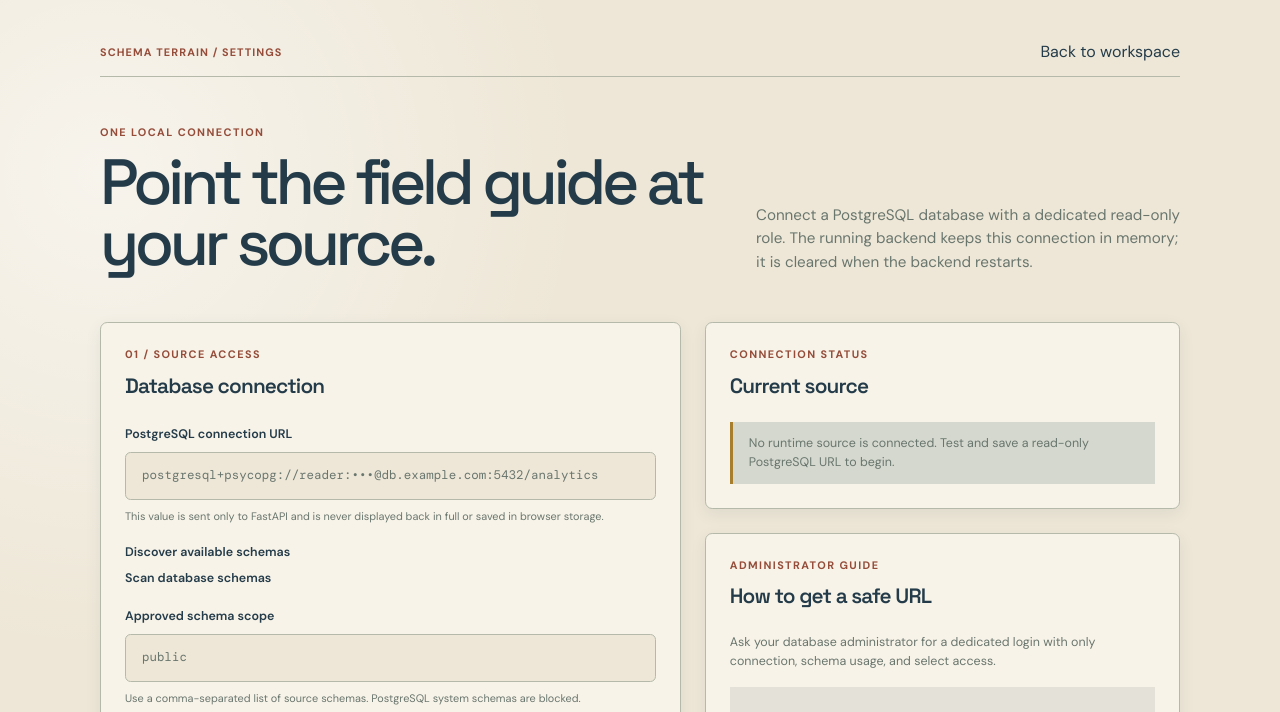
Test case: Milestone 10 application › returns to the workspace from settings
Click the button "Back to workspace": (1110, 52) [1040,40,1180,64]
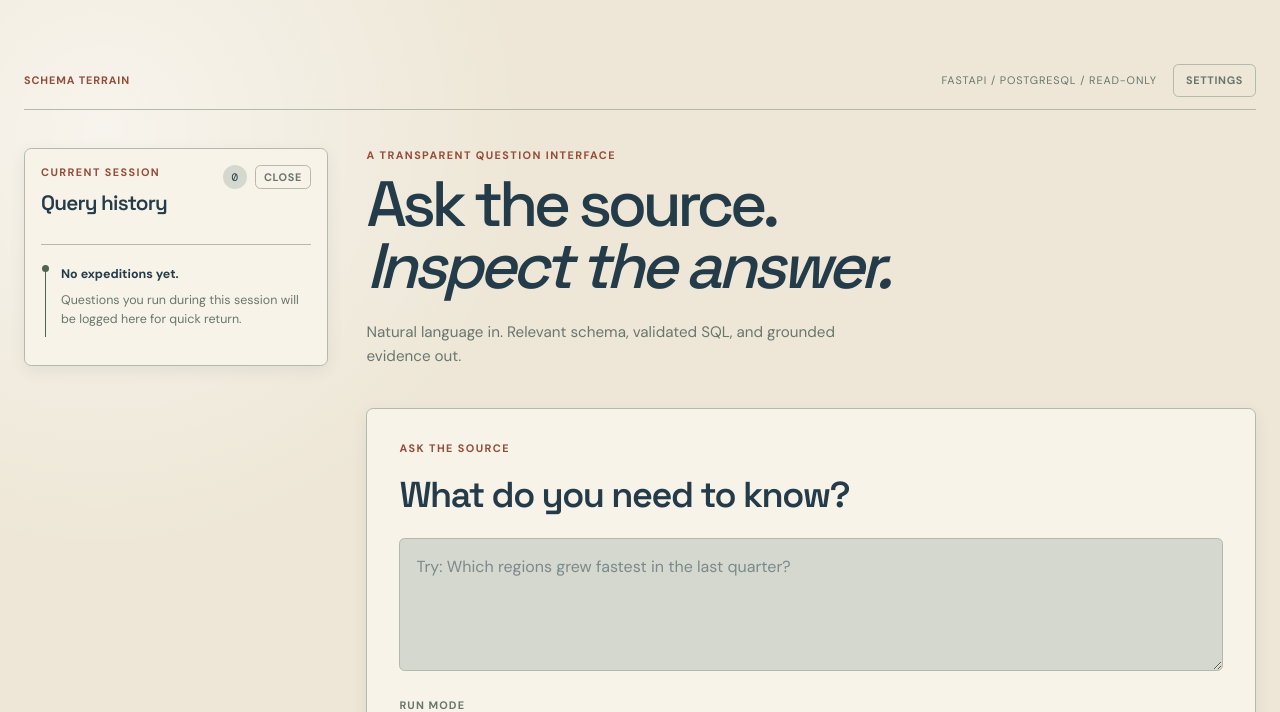
Now the heading "Ask the source.Inspect the answer." is shown, box [366,163,889,307]
